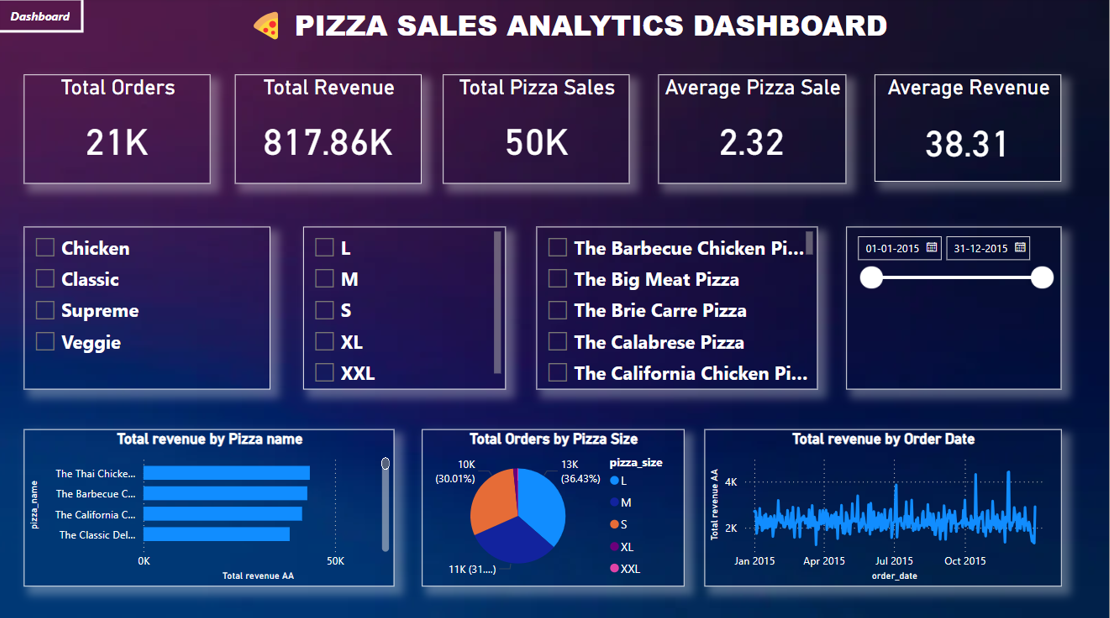

This screenshot's page, from the dashboard's own definition file:
{"tool":"powerbi","page":{"name":"Home","canvas":[1280,720],"ordinal":0},"visuals":[{"type":"actionButton","box":[5.8,4.3,176.4,60.7],"z":0},{"type":"textbox","box":[182.2,3.6,947.1,60.3],"z":1000},{"type":"slicer","fields":{"Values":["pizza_sales.pizza_category"]},"box":[308,263.1,283.4,186.5],"z":2000},{"type":"slicer","fields":{"Values":["pizza_sales.pizza_name"]},"box":[934,263.1,323.9,186.5],"z":3000},{"type":"slicer","fields":{"Values":["pizza_sales.pizza_size"]},"box":[5.8,263.1,232.8,186.5],"z":4000},{"type":"cardVisual","title":"Total Orders","fields":{"Data":["pizza_sales.TotalOrders-AA"]},"box":[5.8,88.2,214,125.8],"z":5000},{"type":"cardVisual","title":"Total Revenue","fields":{"Data":["pizza_sales.Total revenue AA"]},"box":[264.6,88.2,215.4,125.8],"z":6000},{"type":"cardVisual","title":"Total Pizza Sales","fields":{"Data":["pizza_sales.Total pizza sale"]},"box":[529.2,88.2,214,125.8],"z":7000},{"type":"cardVisual","title":"Average Pizza Sale","fields":{"Data":["pizza_sales.AvgPizzaSale"]},"box":[779.3,88.2,215.4,125.8],"z":8000},{"type":"card","title":"Average Revenue","fields":{"Values":["pizza_sales.AverageOrderRevenue"]},"box":[1043.9,88.2,214,122.9],"z":9000},{"type":"lineChart","title":"Total revenue by Order Date","fields":{"Category":["pizza_sales.order_date"],"Y":["pizza_sales.Total revenue AA"]},"box":[847.2,495.9,410.6,180.7],"z":10000},{"type":"barChart","title":"Total revenue by Pizza name","fields":{"Category":["pizza_sales.pizza_name"],"Y":["pizza_sales.Total revenue AA"]},"box":[373,495.9,425.1,180.7],"z":11000},{"type":"pieChart","title":"Total Orders by Pizza Size","fields":{"Category":["pizza_sales.pizza_size"],"Y":["pizza_sales.TotalOrders-AA"]},"box":[5.8,495.9,302.2,180.7],"z":12000},{"type":"slicer","title":"Order Date","fields":{"Values":["pizza_sales.order_date"]},"box":[636.1,263.1,247.2,186.5],"z":13000}]}

Visuals, with their boxes in screenshot pixels (x1, y1, x2, y2), scaled from the page's 1280x720 canvas onto the 1110x618 screenshot:
actionButton: Rect(5, 4, 158, 56)
textbox: Rect(158, 3, 979, 55)
slicer - pizza_sales.pizza_category: Rect(267, 226, 513, 386)
slicer - pizza_sales.pizza_name: Rect(810, 226, 1091, 386)
slicer - pizza_sales.pizza_size: Rect(5, 226, 207, 386)
"Total Orders" cardVisual: Rect(5, 76, 191, 184)
"Total Revenue" cardVisual: Rect(229, 76, 416, 184)
"Total Pizza Sales" cardVisual: Rect(459, 76, 644, 184)
"Average Pizza Sale" cardVisual: Rect(676, 76, 863, 184)
"Average Revenue" card: Rect(905, 76, 1091, 181)
"Total revenue by Order Date" lineChart: Rect(735, 426, 1091, 581)
"Total revenue by Pizza name" barChart: Rect(323, 426, 692, 581)
"Total Orders by Pizza Size" pieChart: Rect(5, 426, 267, 581)
"Order Date" slicer: Rect(552, 226, 766, 386)
